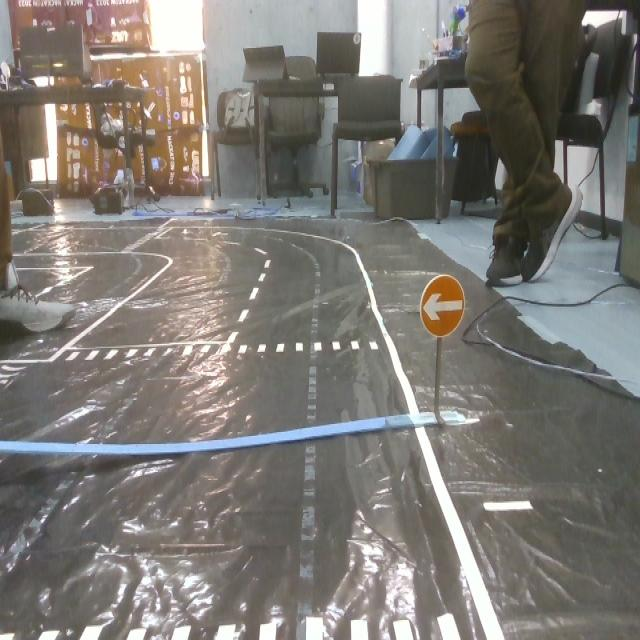forward: (417, 273, 472, 343)
